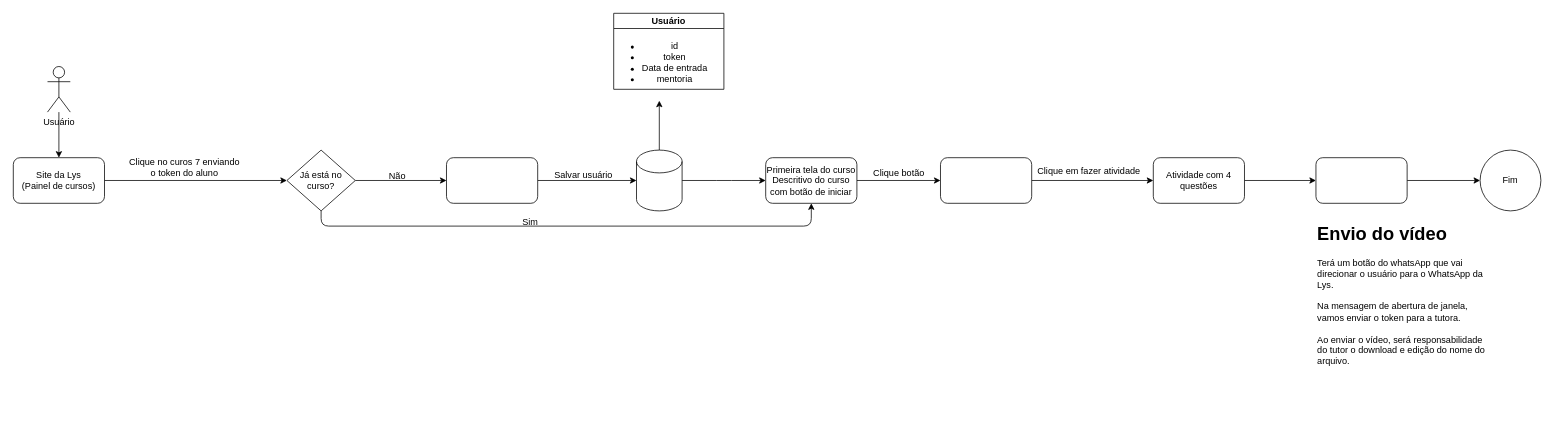
This 1554x439 diagram has some shape labels left out. The shapes that lost their labels are listed below. From the top down, each one's box as (x1, y1, x2, y2) in pixels, then its label:
(446, 157, 538, 203): Tela para escolher a mentoria
(636, 149, 682, 211): Usuários
(940, 157, 1032, 203): Assistir aos videos no formato carrossel
(1315, 157, 1407, 203): Envio do vídeo
